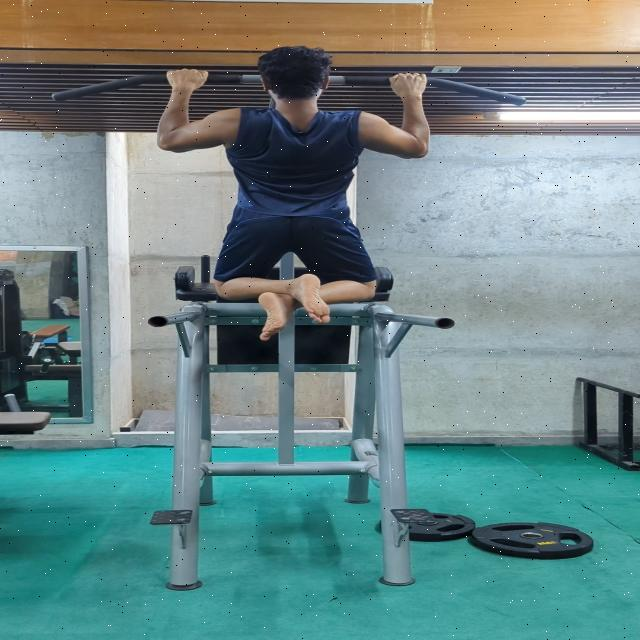Normal_PullUps: (148, 43, 440, 343)
